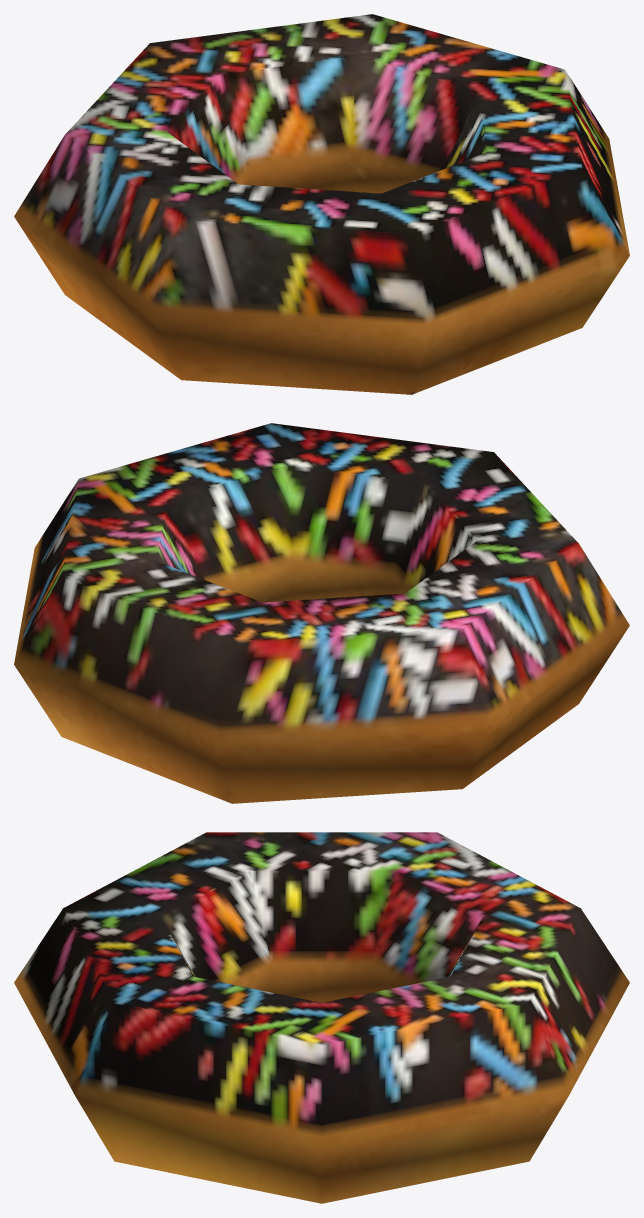
File: DonutType0.glb
The picture shows the model from 3 angles, top to bottom: view 1: azimuth 30°, elevation 25°; view 2: azimuth 150°, elevation 25°; view 3: azimuth 270°, elevation 25°; orthographic projection.
Visible parts, largest first — view 1: Donut; view 2: Donut; view 3: Donut.
Part boxes in pixels (x1,y1,x2,y2): Donut: (14, 14, 629, 394); Donut: (14, 423, 629, 803); Donut: (14, 832, 629, 1203).
Size of the model in its own units: 0.2093 by 0.0609 by 0.2147.
1 material, 1 textured.
